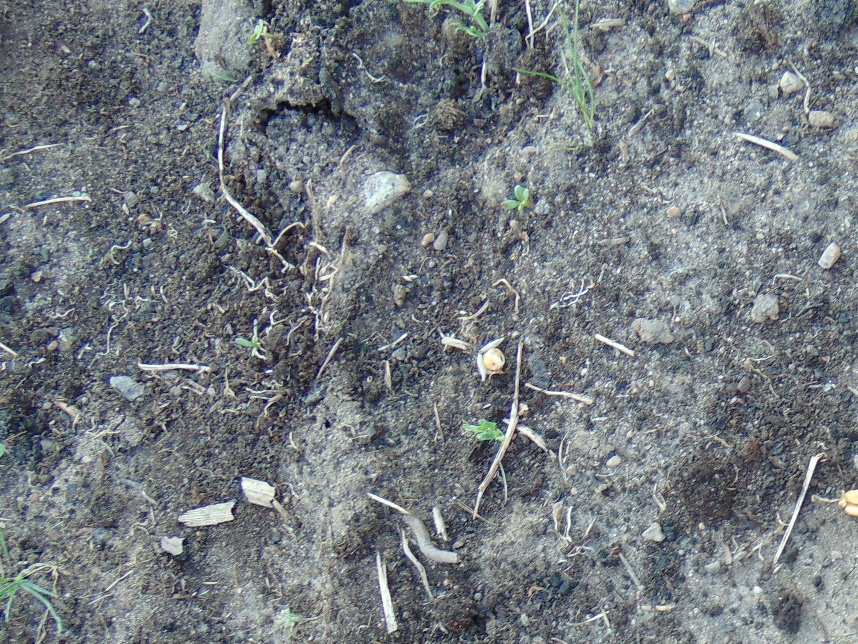crop: (459, 419, 510, 443)
weed: (552, 46, 602, 131), (1, 552, 56, 608), (501, 185, 538, 217)
